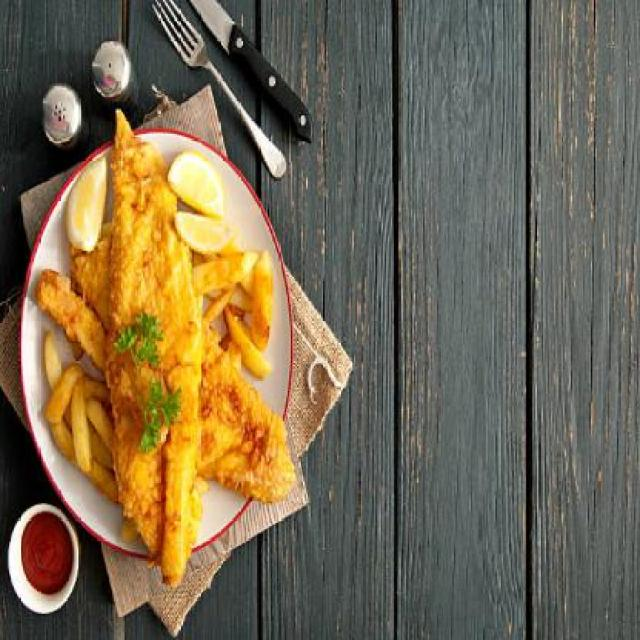fries: (34, 212, 278, 523)
